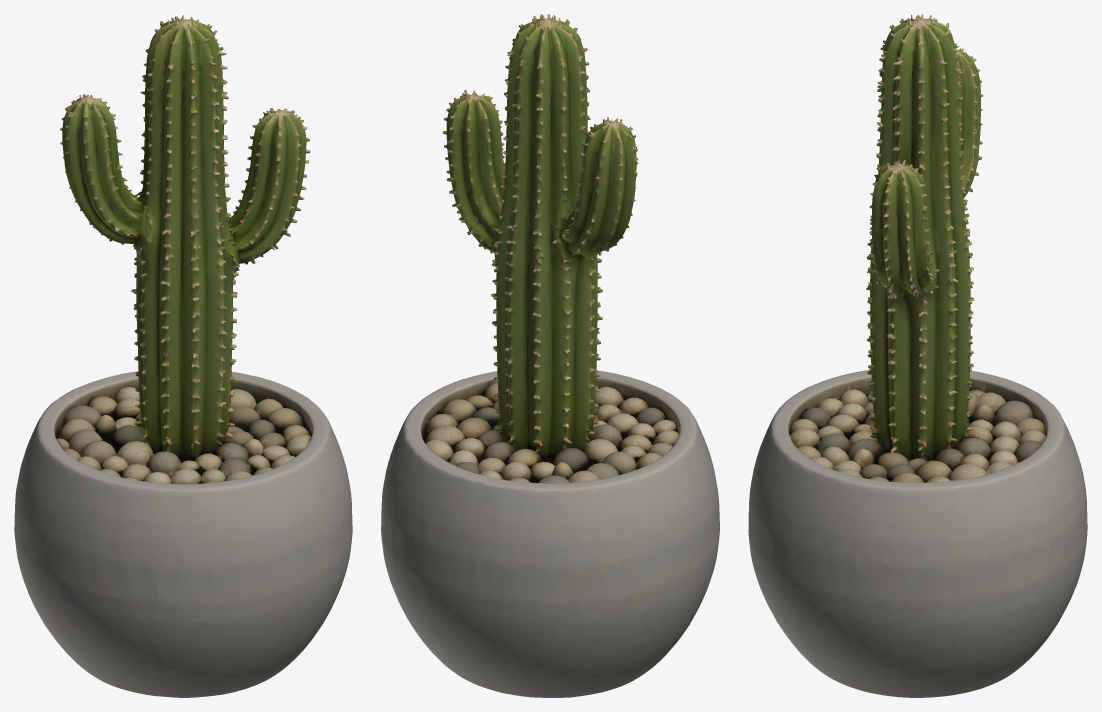
Rendered from cactus.hd.glb.
The picture shows the model from 3 angles, left to right: view 1: azimuth 30°, elevation 25°; view 2: azimuth 150°, elevation 25°; view 3: azimuth 270°, elevation 25°; orthographic projection.
Visible parts, largest first — view 1: tripo_node_db04446c-8393-4553-afaf-8690135746d2; view 2: tripo_node_db04446c-8393-4553-afaf-8690135746d2; view 3: tripo_node_db04446c-8393-4553-afaf-8690135746d2.
Part boxes in pixels (left/top/right/bottom): tripo_node_db04446c-8393-4553-afaf-8690135746d2: left=14, top=15, right=352, bottom=697; tripo_node_db04446c-8393-4553-afaf-8690135746d2: left=381, top=14, right=719, bottom=697; tripo_node_db04446c-8393-4553-afaf-8690135746d2: left=748, top=14, right=1087, bottom=697.
Bounding box in the file's own units: 0.4554 × 0.95 × 0.4552.
1 material, 1 textured.
